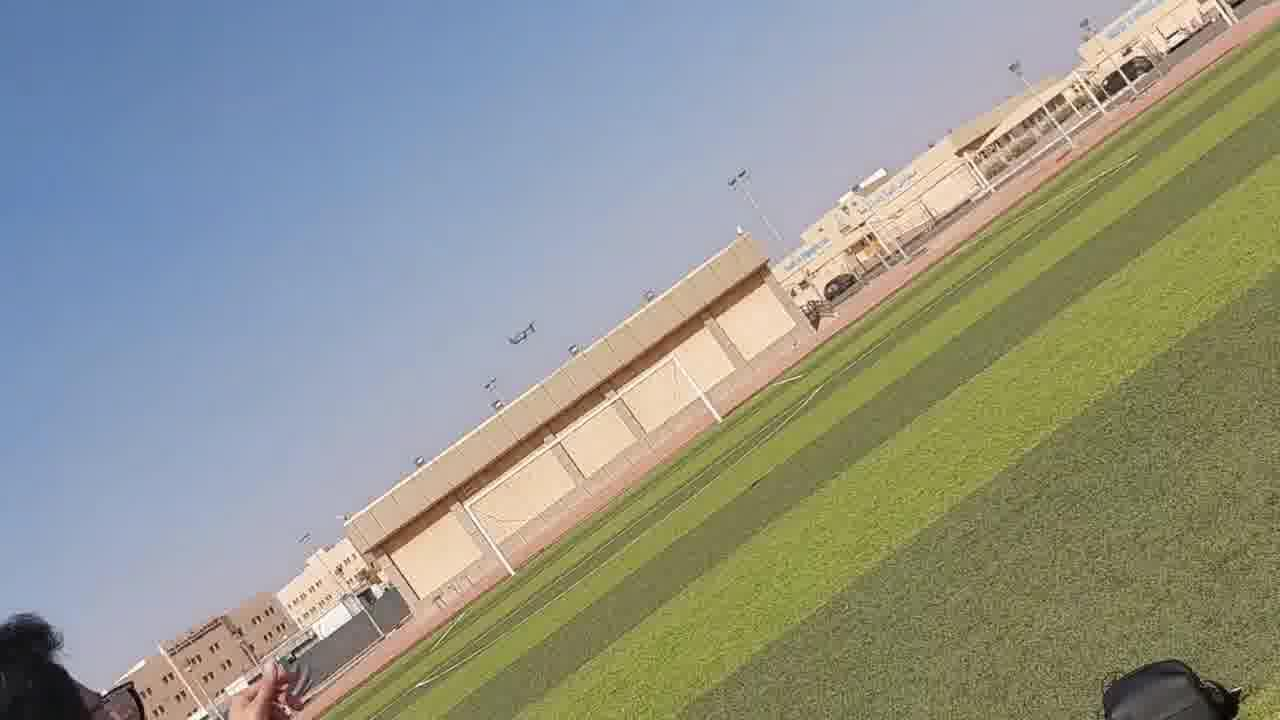drone: (499, 311, 541, 347)
